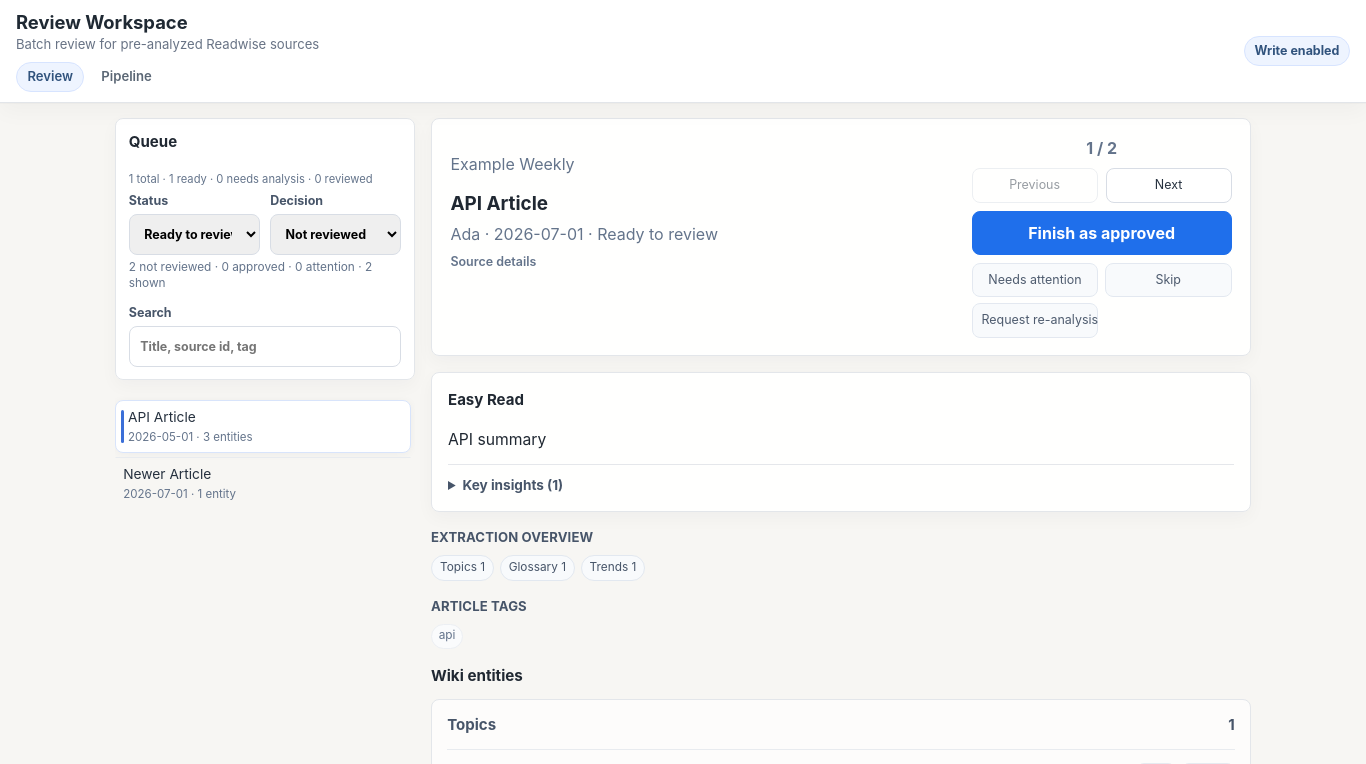
Test: App › disables article action buttons while a decision request is pending
This screenshot has width=1366, height=764.
Expected: the text "API summary" is shown, [448, 430, 546, 449]
Click the button "Needs attention" at [1035, 280], box [972, 263, 1098, 297]
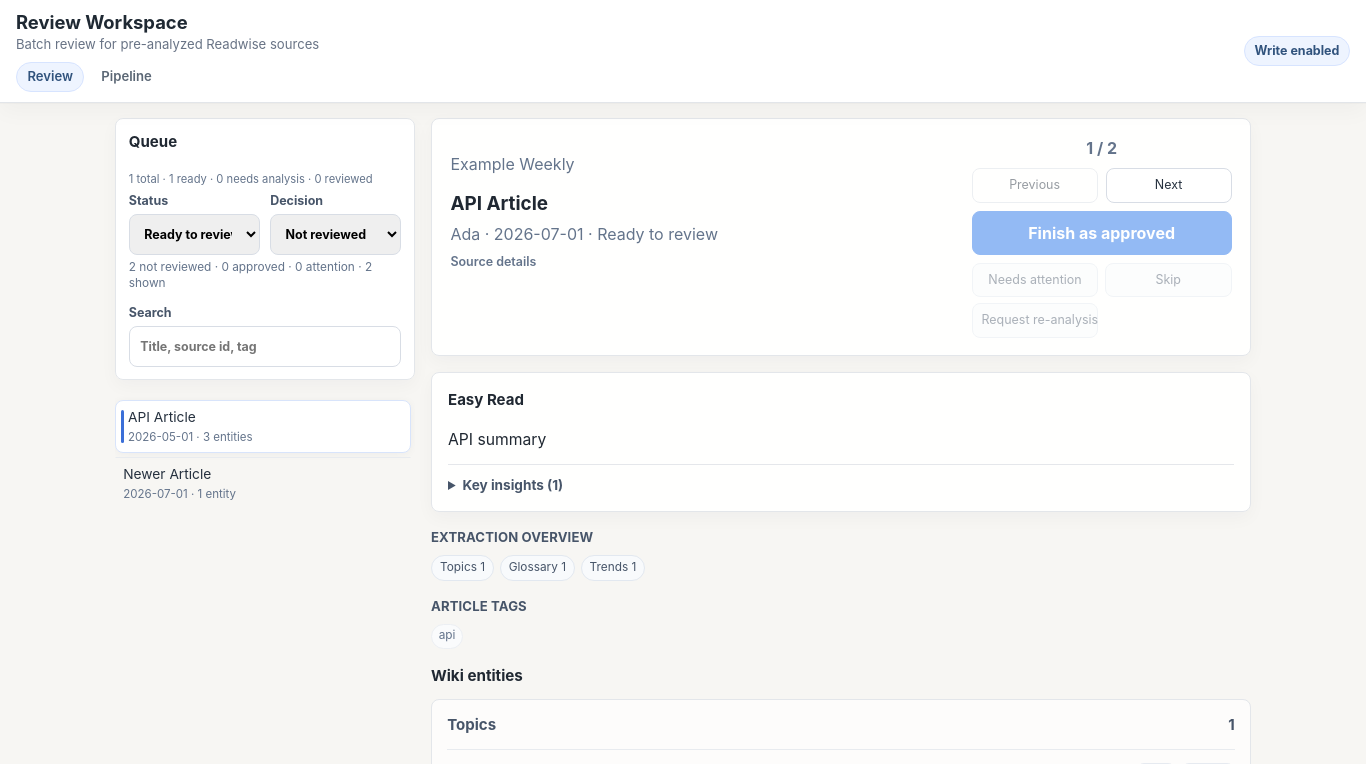
Now the button "Finish as approved" is disabled, box [972, 211, 1232, 255]
Now the button "Needs attention" is disabled, box [972, 263, 1098, 297]
Now the button "Skip" is disabled, box [1105, 263, 1232, 297]
